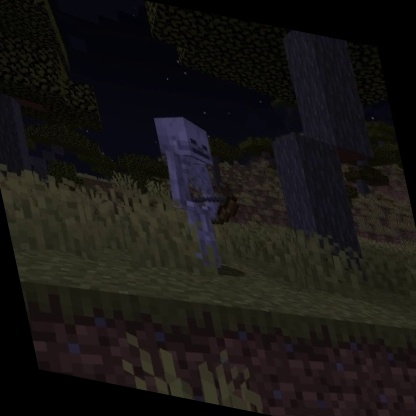skeleton: (146, 106, 257, 278)
